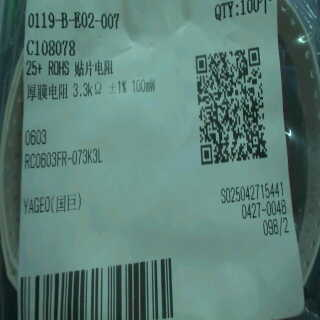3.3kO: (68, 76, 105, 108)
